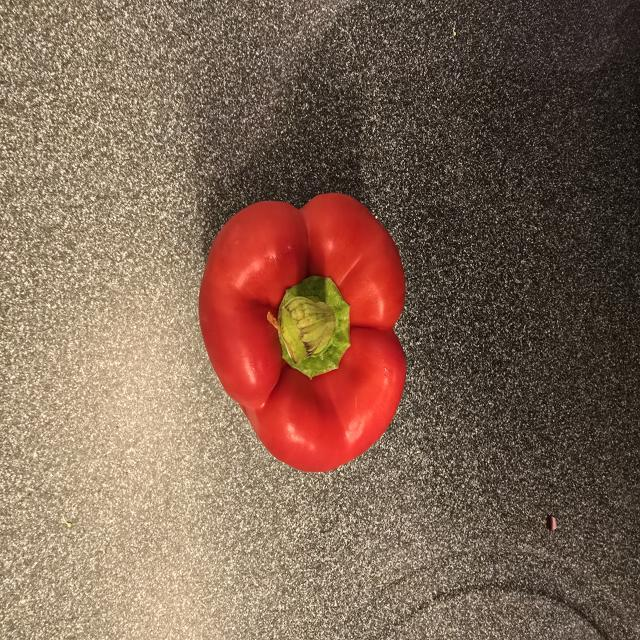Bell Pepper: (191, 177, 422, 487)
